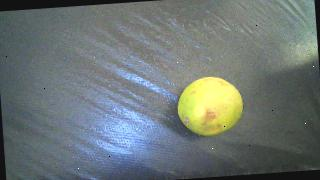DESECHO: (176, 74, 245, 137)
